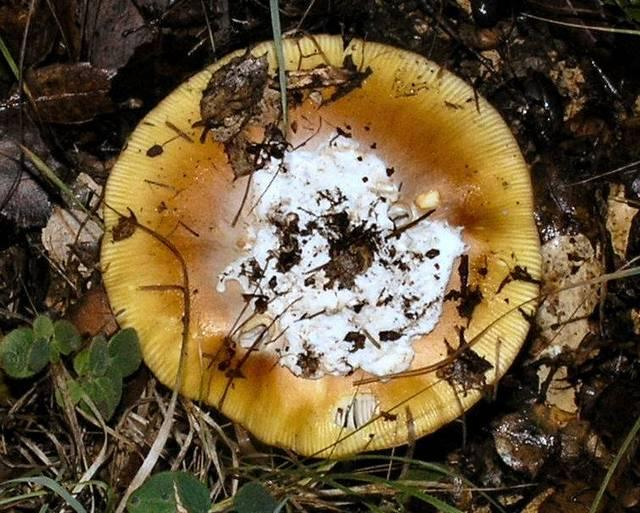Edible Mushroom: (98, 31, 544, 460)
